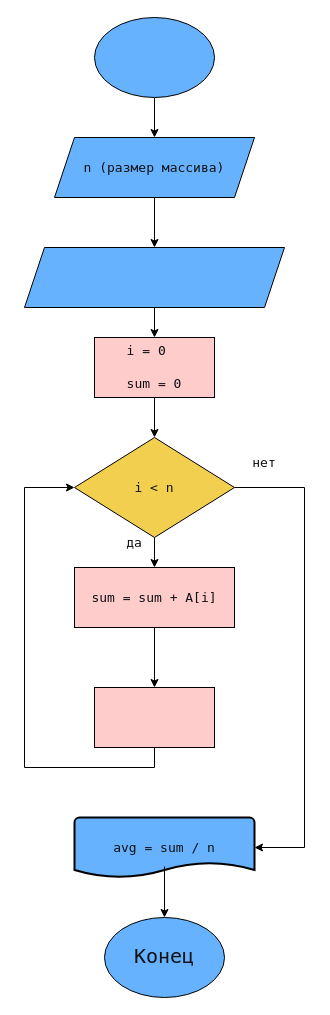
The diagram is 330 pixels wide and 1015 high, and some of its shapes have lost their labels. The shapes that lost their labels are listed below. From the top down, each one's centre as x and y in pixels, then its label:
At point 154,57: "Начало".
At point 154,277: "Создать массив A размером n".
At point 154,717: "i = i + 1".
